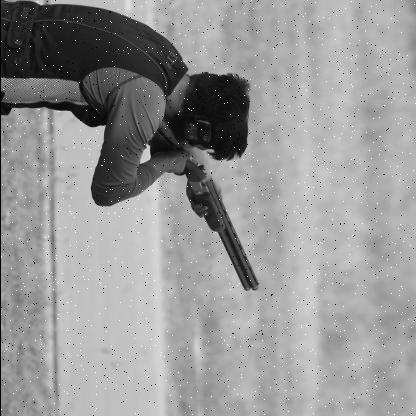rifle: (127, 107, 261, 294)
